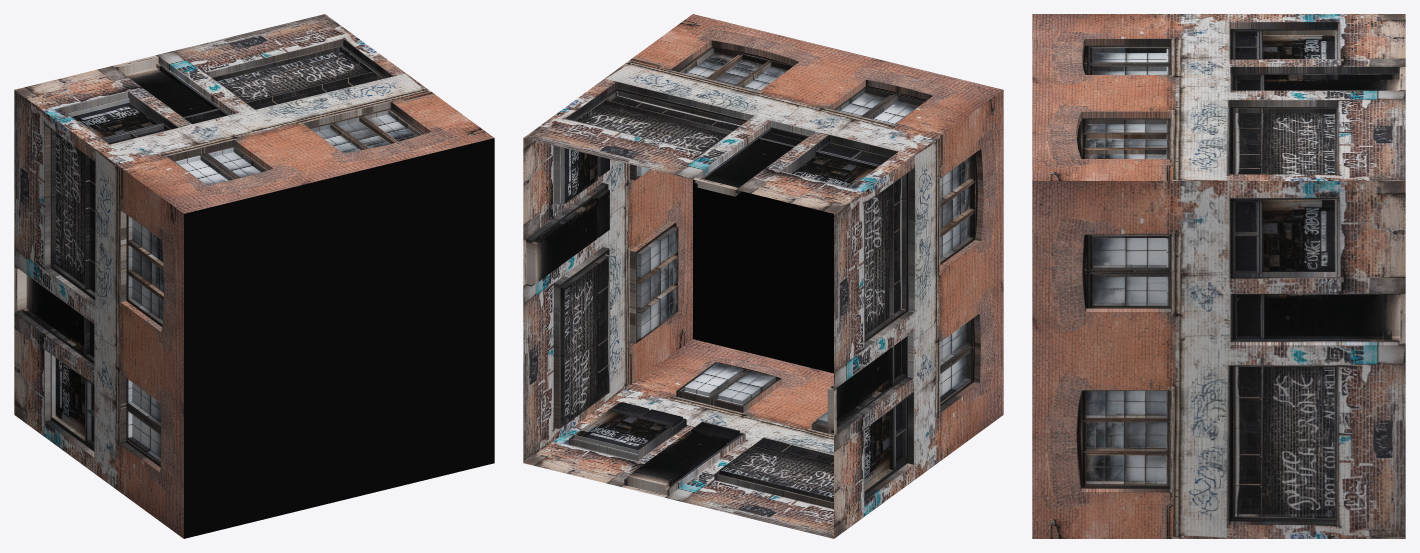
Rendered from old_building_3.obj.
3 views of the same model, side by side, from view 1: azimuth 30°, elevation 25°; view 2: azimuth 150°, elevation 25°; view 3: azimuth 270°, elevation 25° (orthographic). The views are drawn at different scales.
Parts seen in each view (by area): view 1: Building_3.002_Building_3_0; view 2: Building_3.002_Building_3_0; view 3: Building_3.002_Building_3_0.
Boxes of the visible parts, x1=… form: Building_3.002_Building_3_0: x1=14, y1=14, x2=494, y2=538; Building_3.002_Building_3_0: x1=523, y1=14, x2=1003, y2=538; Building_3.002_Building_3_0: x1=1032, y1=14, x2=1405, y2=538.
Bounding box in the file's own units: 6.45 × 6.45 × 6.1.
Materials: 3 (3 with a texture image).
